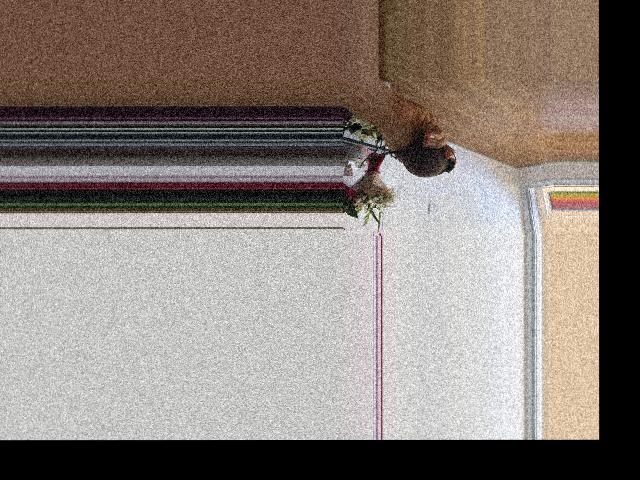beet: (360, 143, 456, 177)
